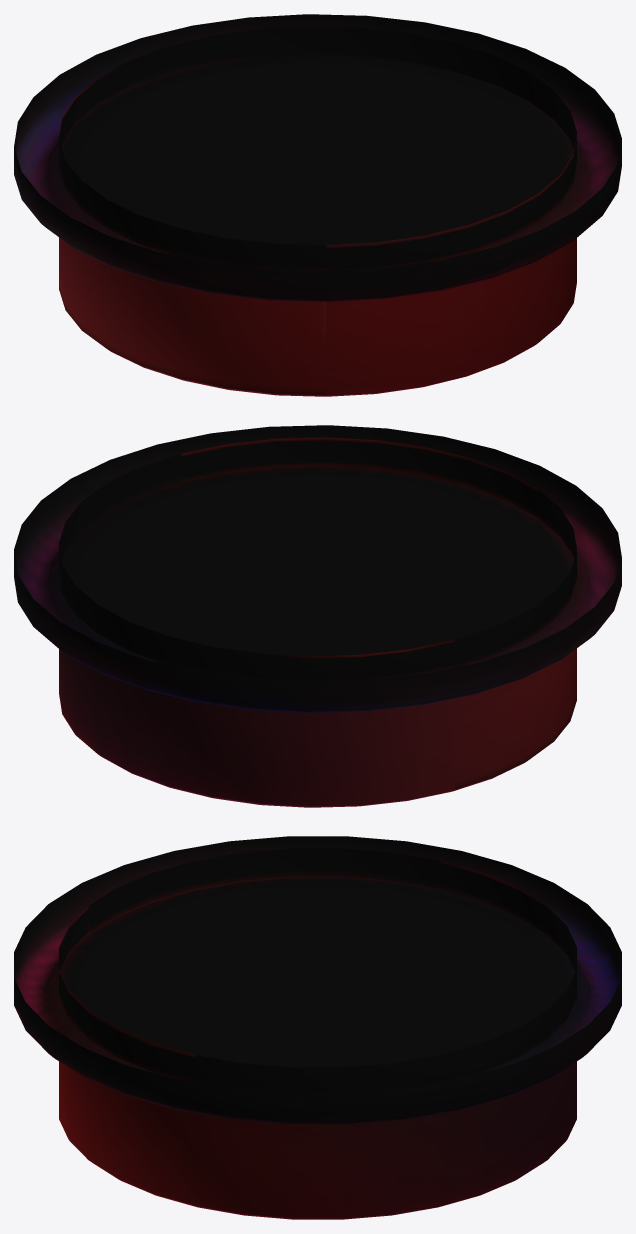
Rendered from button_red.fbx.
3 views of the same model, one above another, from view 1: azimuth 30°, elevation 25°; view 2: azimuth 150°, elevation 25°; view 3: azimuth 270°, elevation 25° (orthographic).
Visible parts, largest first — view 1: Plane; view 2: Plane; view 3: Plane.
Part boxes in pixels (x1,y1,x2,y2): Plane: (14, 14, 621, 396); Plane: (14, 425, 621, 807); Plane: (14, 836, 621, 1219).
Size of the model in its own units: 81.29 by 22.75 by 81.29.
